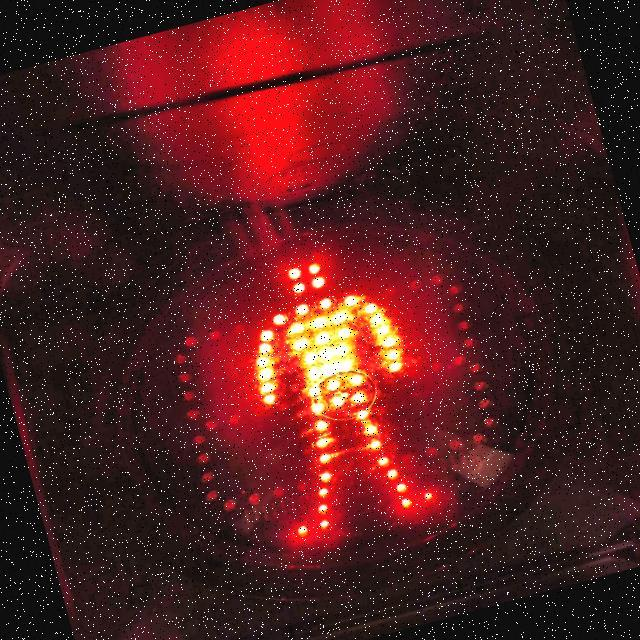red_light: (205, 222, 461, 561)
